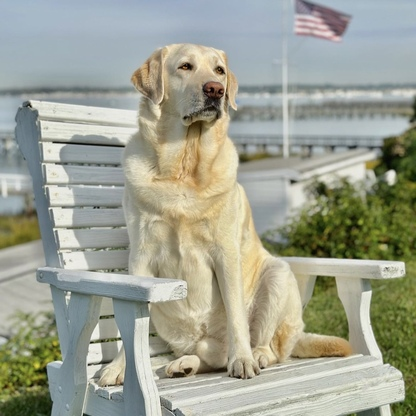labrado: (93, 37, 356, 388)
